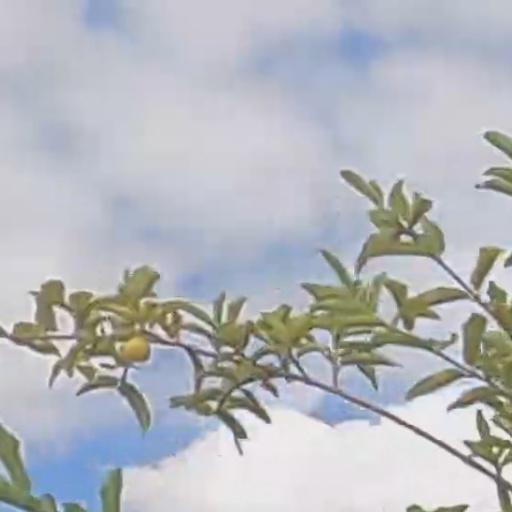acerola: (122, 336, 149, 361)
